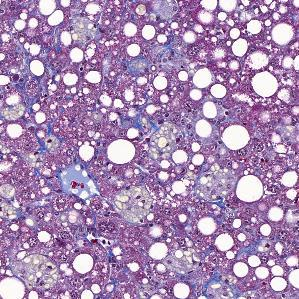fibrosis: (49, 163, 114, 202), (136, 43, 186, 78)
